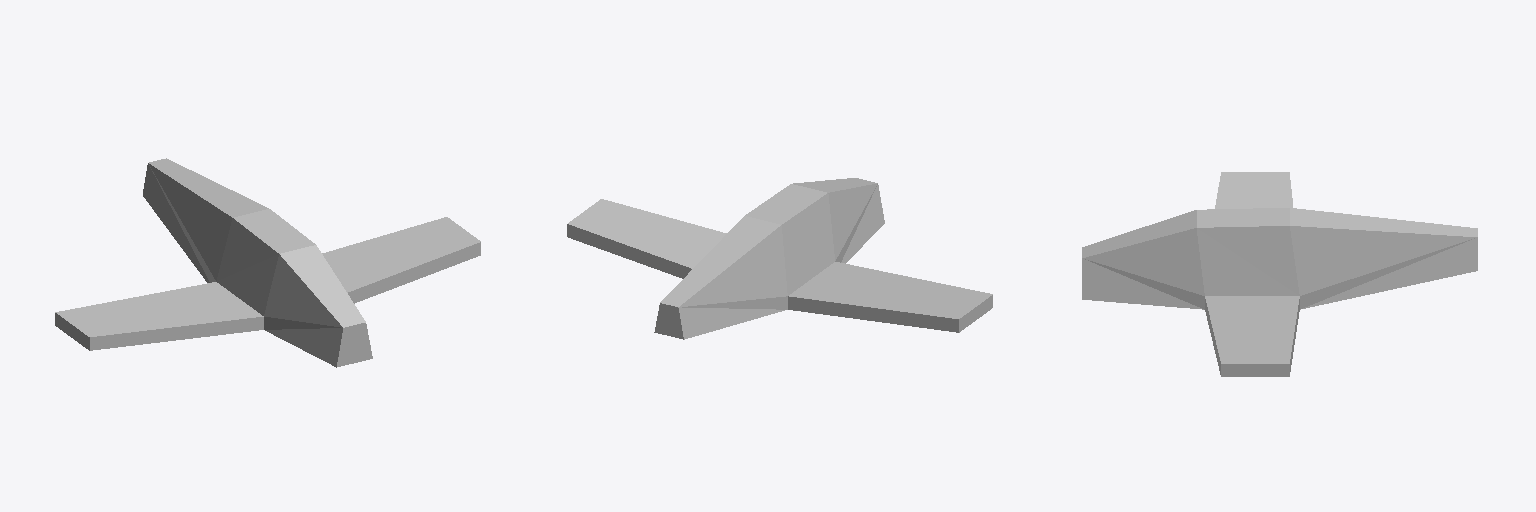
3 renders of one model, left to right at view 1: azimuth 30°, elevation 25°; view 2: azimuth 150°, elevation 25°; view 3: azimuth 270°, elevation 25°, orthographic.
Visible parts, largest first — view 1: phy_plane_collision_Cube.001; view 2: phy_plane_collision_Cube.001; view 3: phy_plane_collision_Cube.001.
Part boxes in pixels (x1,y1,x2,y2): phy_plane_collision_Cube.001: (55, 158, 480, 367); phy_plane_collision_Cube.001: (567, 178, 992, 339); phy_plane_collision_Cube.001: (1082, 172, 1477, 376).
Size of the model in its own units: 4.09 by 0.7822 by 3.57.